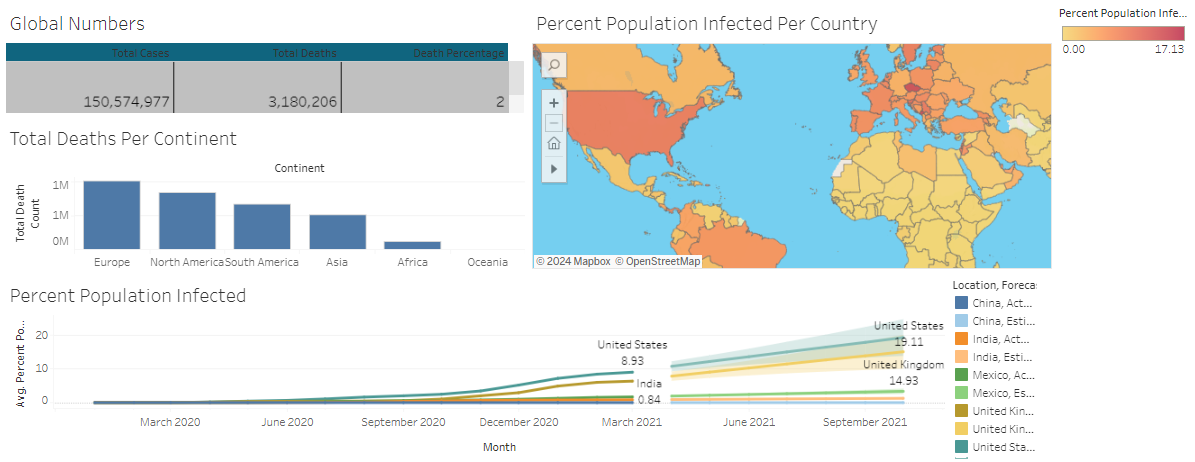

Layout of this report page (visuals, bound fields, positions):
{"tool":"tableau","page":{"name":"Dashboard 1","canvas":[1000,1000],"units":"permille","ordinal":0},"visuals":[{"type":"worksheet","title":"Sheet 1","mark":"Automatic","box":[4.8,9.3,449.3,245.3]},{"type":"worksheet","title":"Sheet 3","mark":"Automatic","box":[454.1,9.3,449.3,578.4]},{"type":"legend","title":"Sheet 3","param":"[federated.1u6pgzk0rhh873144wigi0cf6ax3].[sum:PercentPopulationInfected:qk]","box":[903.4,9.3,91.7,84.8]},{"type":"worksheet","title":"Sheet 2","mark":"Automatic","rows":["TotalDeathCount"],"cols":["location"],"box":[4.8,254.6,449.3,333.1]},{"type":"worksheet","title":"Sheet 4","mark":"Automatic","rows":["PercentPopulationInfected"],"cols":["date"],"box":[4.8,587.7,808,403]},{"type":"legend","title":"Sheet 4","param":"[federated.0fv2uox0hbhi61182v4641vh426j].[none:Location:nk]\n[federated.0fv2uox0h","box":[812.8,587.7,90.6,403]}]}

Visuals, with their boxes on the dashboard's canvas, which has no fixed pixel size, in thousandths of its width and height (x1, y1, x2, y2). These are canvas units, not pixel positions in the 1195x462 screenshot, which may show the page scaled, cropped or inside an application window:
"Sheet 1" worksheet: [x1=5, y1=9, x2=454, y2=255]
"Sheet 3" worksheet: [x1=454, y1=9, x2=903, y2=588]
"Sheet 3" legend: [x1=903, y1=9, x2=995, y2=94]
"Sheet 2" worksheet: [x1=5, y1=255, x2=454, y2=588]
"Sheet 4" worksheet: [x1=5, y1=588, x2=813, y2=991]
"Sheet 4" legend: [x1=813, y1=588, x2=903, y2=991]
